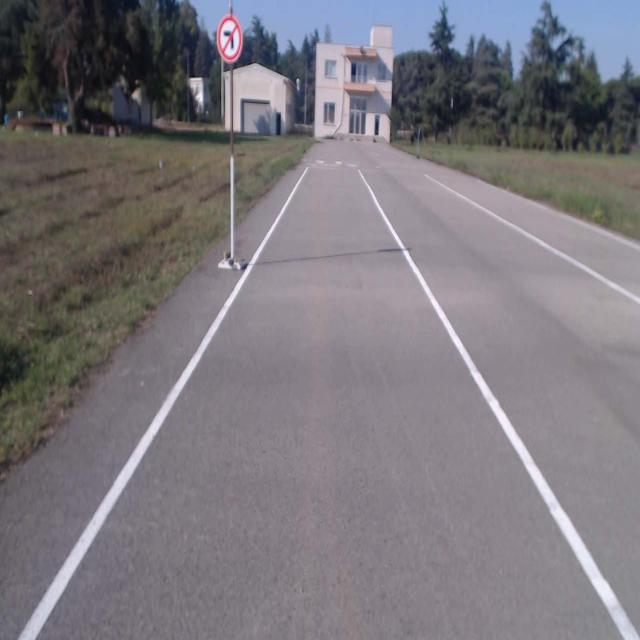soladonulmez: (218, 15, 242, 61)
